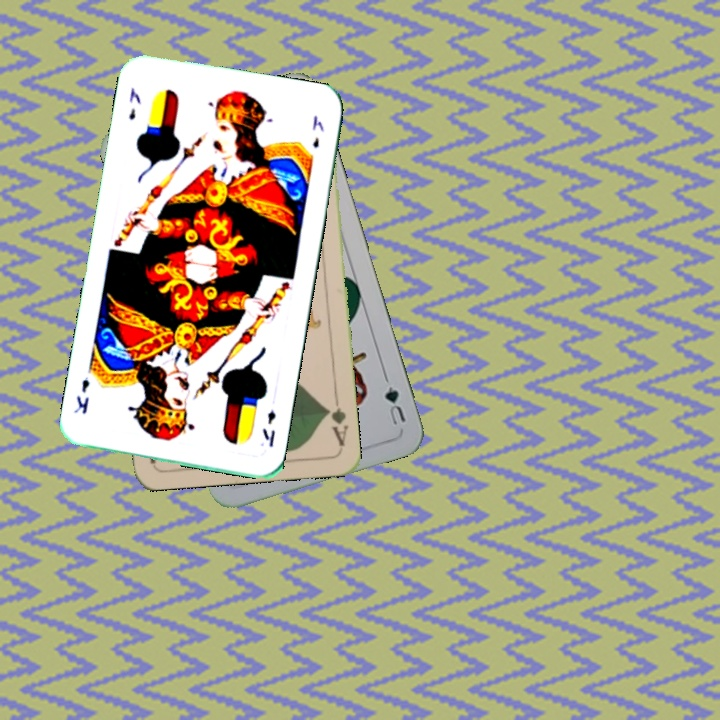EK: (258, 406, 279, 450), (124, 83, 143, 123)
GA: (322, 391, 350, 449)
GU: (380, 382, 409, 428)
